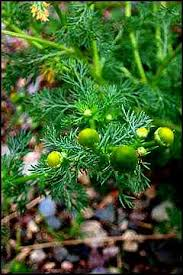pineple: (39, 87, 153, 183)
